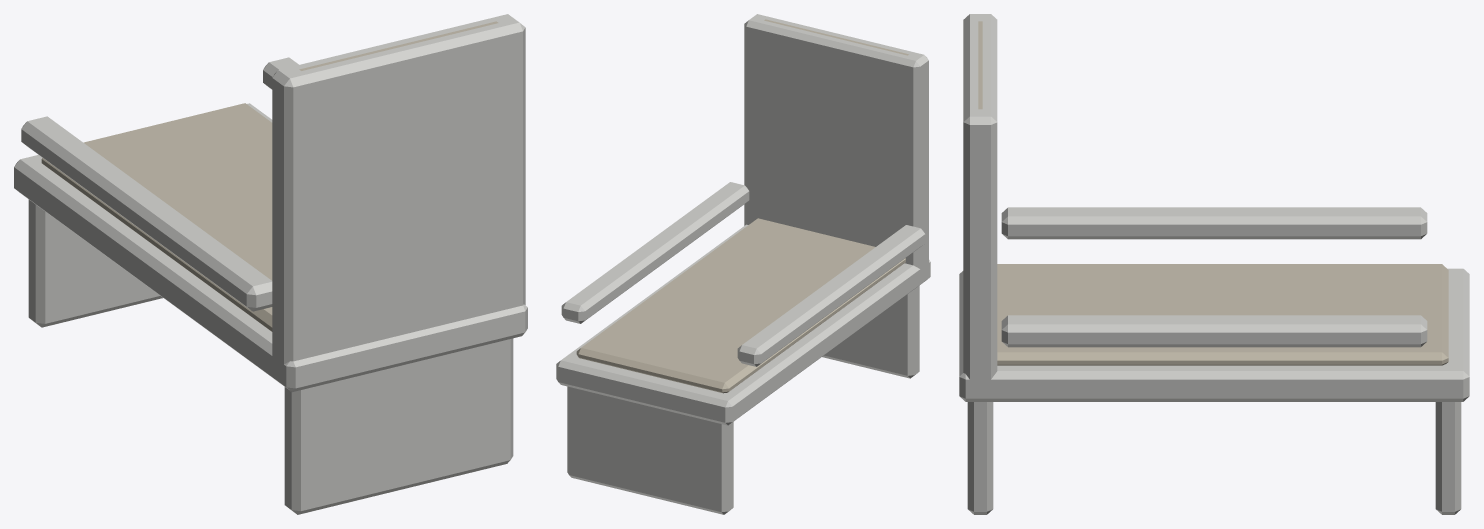
The model's file is PRP_LoungeChair_BCH_v001.glb.
The picture shows the model from 3 angles, left to right: view 1: azimuth 30°, elevation 25°; view 2: azimuth 150°, elevation 25°; view 3: azimuth 270°, elevation 25°; orthographic projection. The views are drawn at different scales.
Visible parts, largest first — view 1: PRP_LoungeChair_BCH_v001; view 2: PRP_LoungeChair_BCH_v001; view 3: PRP_LoungeChair_BCH_v001.
Boxes of the visible parts, <box> form: PRP_LoungeChair_BCH_v001: <box>14,14,527,514</box>; PRP_LoungeChair_BCH_v001: <box>556,14,930,514</box>; PRP_LoungeChair_BCH_v001: <box>959,14,1469,514</box>.
Bounding box in the file's own units: 0.68 × 1.05 × 1.2.
